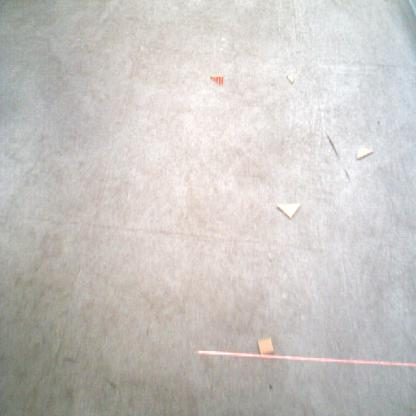dirty: (275, 203, 303, 220), (256, 335, 276, 357), (355, 148, 375, 162), (208, 74, 225, 86), (285, 74, 296, 85)
mark: (326, 134, 340, 160), (102, 376, 116, 389), (62, 355, 78, 363), (343, 168, 351, 181), (66, 390, 74, 400), (267, 380, 274, 391), (145, 327, 150, 339), (376, 118, 381, 126)
